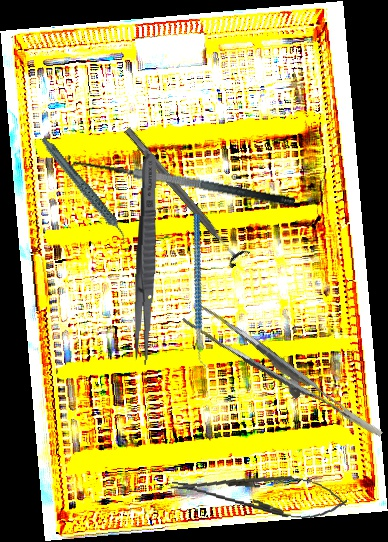Chopper: (148, 213, 255, 369)
Dressing Forceps: (131, 153, 161, 366)
Fixation Ring: (116, 120, 252, 270)
Handpiece: (40, 125, 128, 257)
Needle Holder: (169, 462, 349, 525)
Spatula Surgical: (68, 148, 296, 228)
Tissue Forceps: (181, 284, 384, 468)
